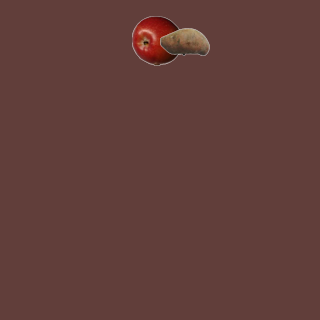Apple Braeburn: (131, 15, 181, 65)
Potato Sweet: (159, 16, 209, 66)
